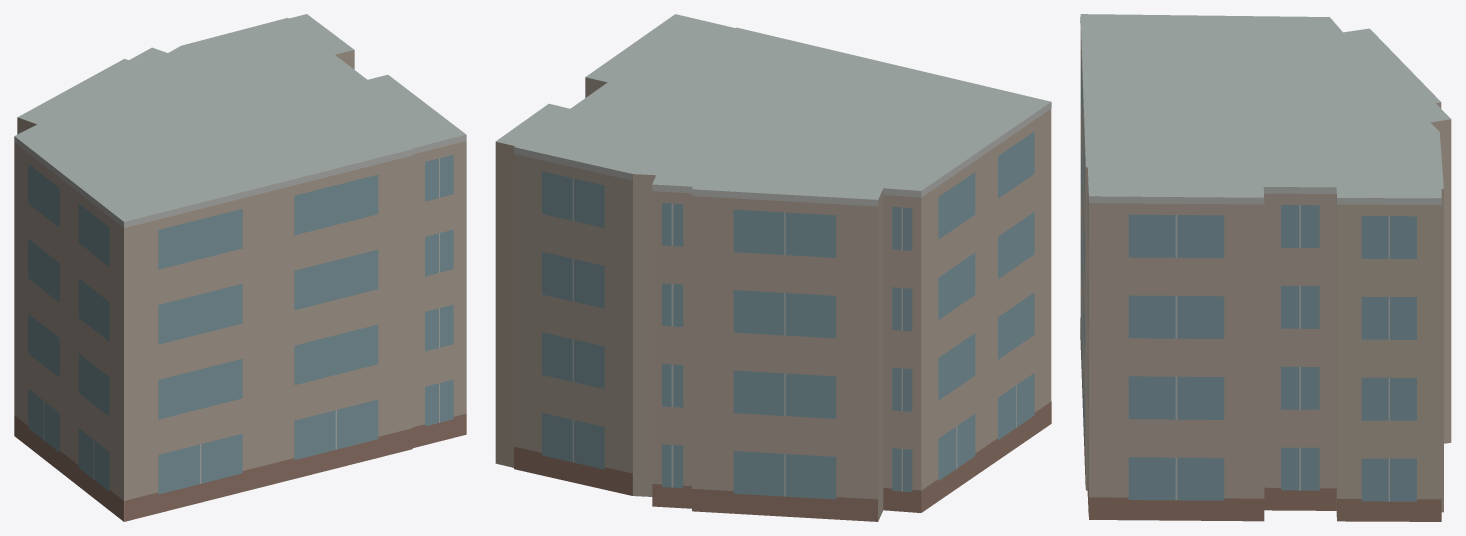
File: survey-upis-32671020.glb
The picture shows the model from 3 angles, left to right: view 1: azimuth 30°, elevation 25°; view 2: azimuth 150°, elevation 25°; view 3: azimuth 270°, elevation 25°; orthographic projection. The views are drawn at different scales.
Visible parts, largest first — view 1: survey-upis-32671020.tmp; view 2: survey-upis-32671020.tmp; view 3: survey-upis-32671020.tmp.
Part boxes in pixels (x1,y1,x2,y2): survey-upis-32671020.tmp: [14, 14, 466, 521]; survey-upis-32671020.tmp: [495, 14, 1051, 521]; survey-upis-32671020.tmp: [1080, 14, 1451, 521].
Size of the model in its own units: 14.44 by 11.8 by 12.27.
